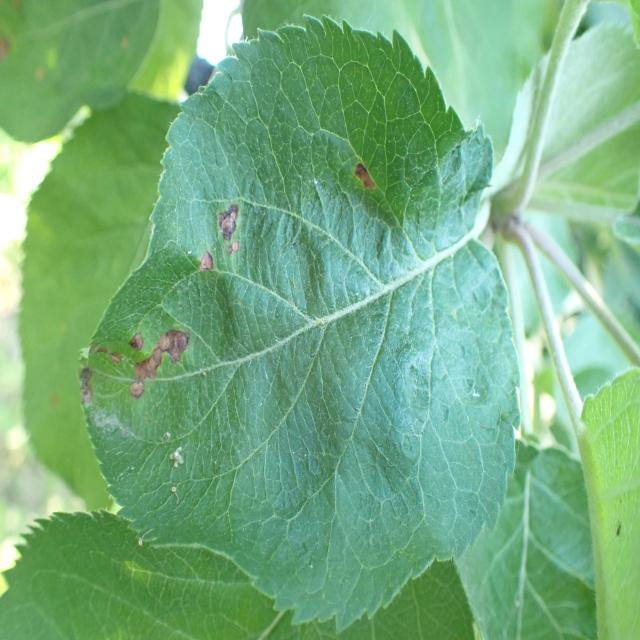Black Rot: (127, 316, 192, 402), (75, 334, 124, 414), (219, 174, 243, 271), (344, 155, 381, 210), (195, 236, 219, 291)
